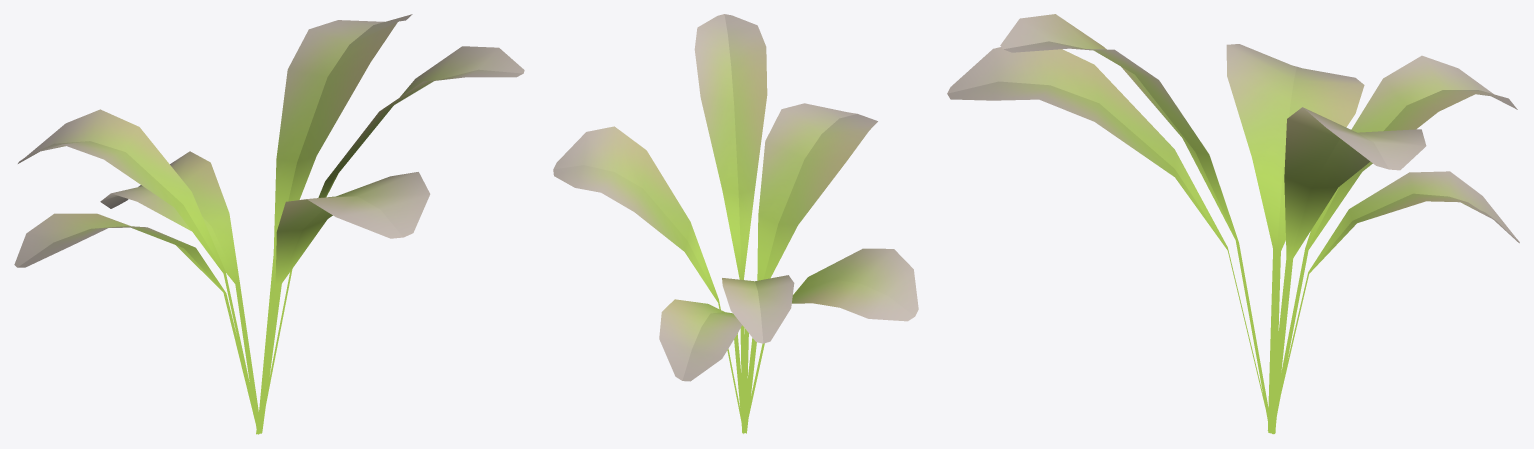
File: SM_plantdetail_A_LOD0.FBX
The picture shows the model from 3 angles, left to right: view 1: azimuth 30°, elevation 25°; view 2: azimuth 150°, elevation 25°; view 3: azimuth 270°, elevation 25°; orthographic projection. The views are drawn at different scales.
Parts seen in each view (by area): view 1: SM_plantdetail_A_LOD0; view 2: SM_plantdetail_A_LOD0; view 3: SM_plantdetail_A_LOD0.
Boxes of the visible parts, x1=… form: SM_plantdetail_A_LOD0: x1=14, y1=14, x2=524, y2=434; SM_plantdetail_A_LOD0: x1=553, y1=14, x2=918, y2=433; SM_plantdetail_A_LOD0: x1=947, y1=14, x2=1519, y2=434.
Bounding box in the file's own units: 286 × 269 × 298.
1 material, 1 textured.
